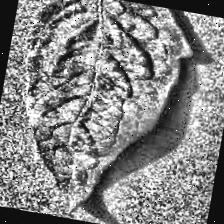spider mites: (0, 0, 197, 224)
